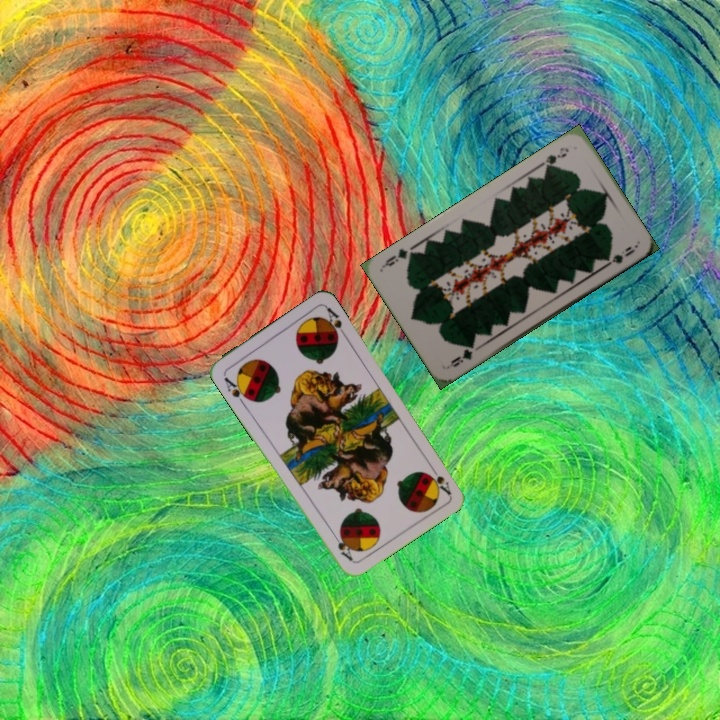G9: (537, 143, 572, 172), (446, 340, 477, 370)
SA: (220, 373, 253, 408), (424, 461, 453, 497)
